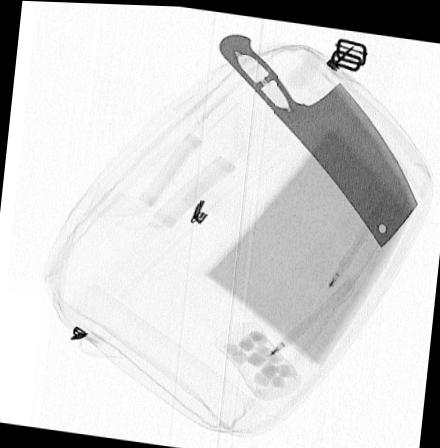Knife: (217, 30, 420, 245)
